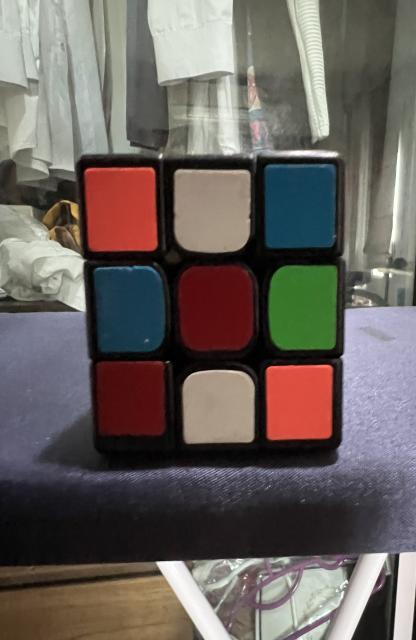Blue: (93, 266, 166, 352), (264, 164, 336, 249)
Green: (269, 265, 338, 350)
Orange: (84, 168, 158, 251), (265, 365, 333, 440)
Red: (178, 265, 255, 351), (95, 361, 166, 436)
White: (173, 169, 250, 252), (182, 370, 256, 444)
